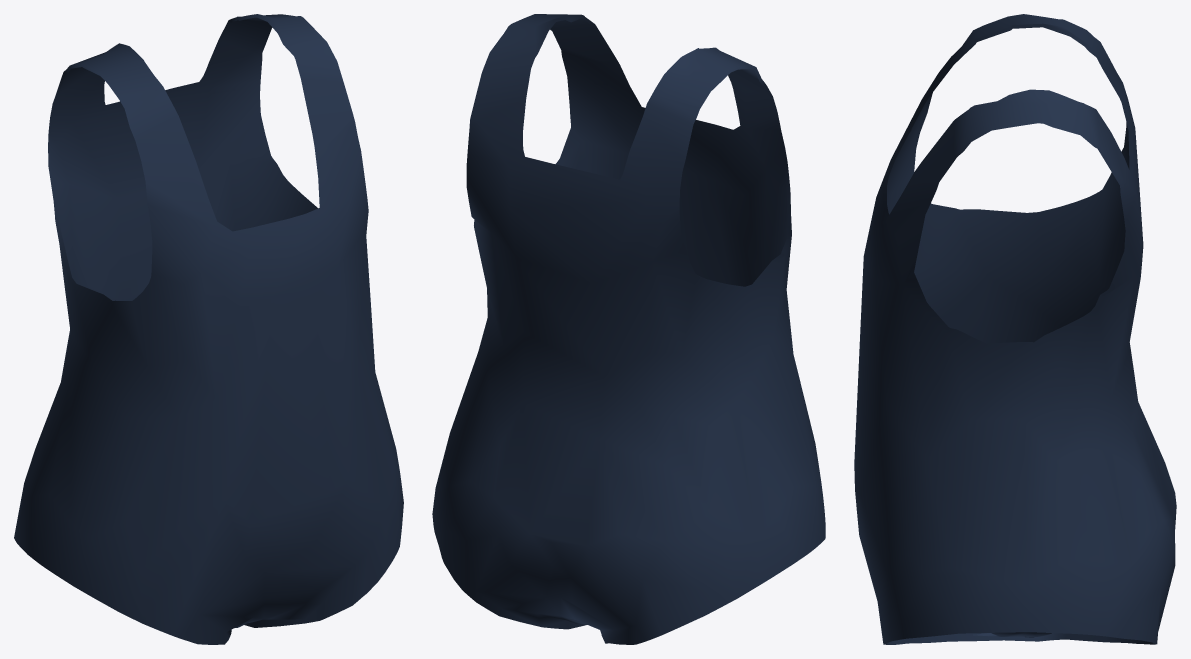
Rendered from school-swimsuit-only.glb.
The picture shows the model from 3 angles, left to right: view 1: azimuth 30°, elevation 25°; view 2: azimuth 150°, elevation 25°; view 3: azimuth 270°, elevation 25°; orthographic projection. The views are drawn at different scales.
Visible parts, largest first — view 1: Apparel_school-swimsuit; view 2: Apparel_school-swimsuit; view 3: Apparel_school-swimsuit.
Part boxes in pixels (left/top/right/bottom): Apparel_school-swimsuit: left=14, top=14, right=403, bottom=644; Apparel_school-swimsuit: left=432, top=14, right=825, bottom=644; Apparel_school-swimsuit: left=854, top=14, right=1176, bottom=644.
Bounding box in the file's own units: 0.886 × 1.4 × 0.6988.
